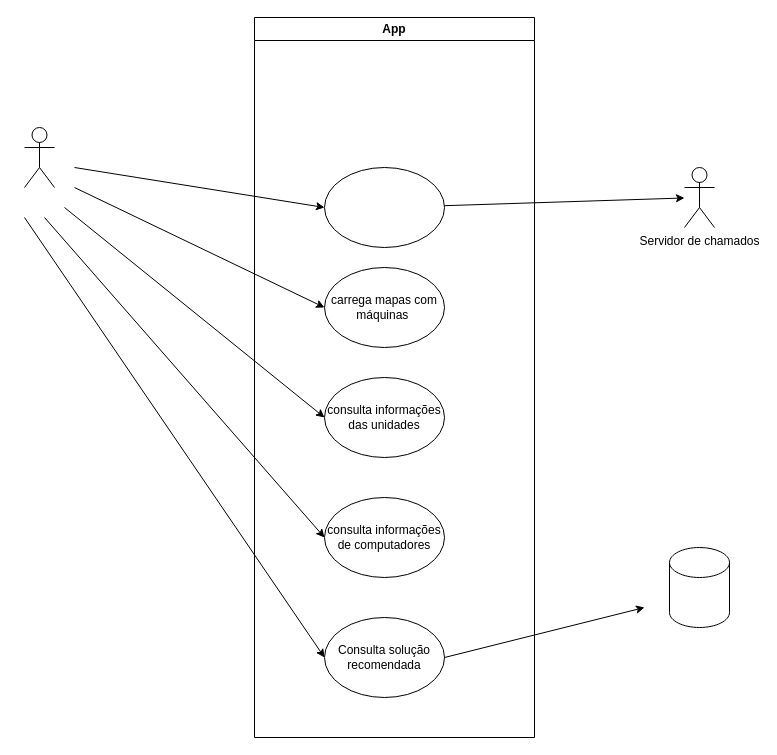
Image size: 777x755. Some labels were removed from this diagram. Each missing label, with the centre of its shape:
Base de conhecimentos: (x=699, y=587)
login no sistema: (x=384, y=207)
Técnico: (x=39, y=157)
